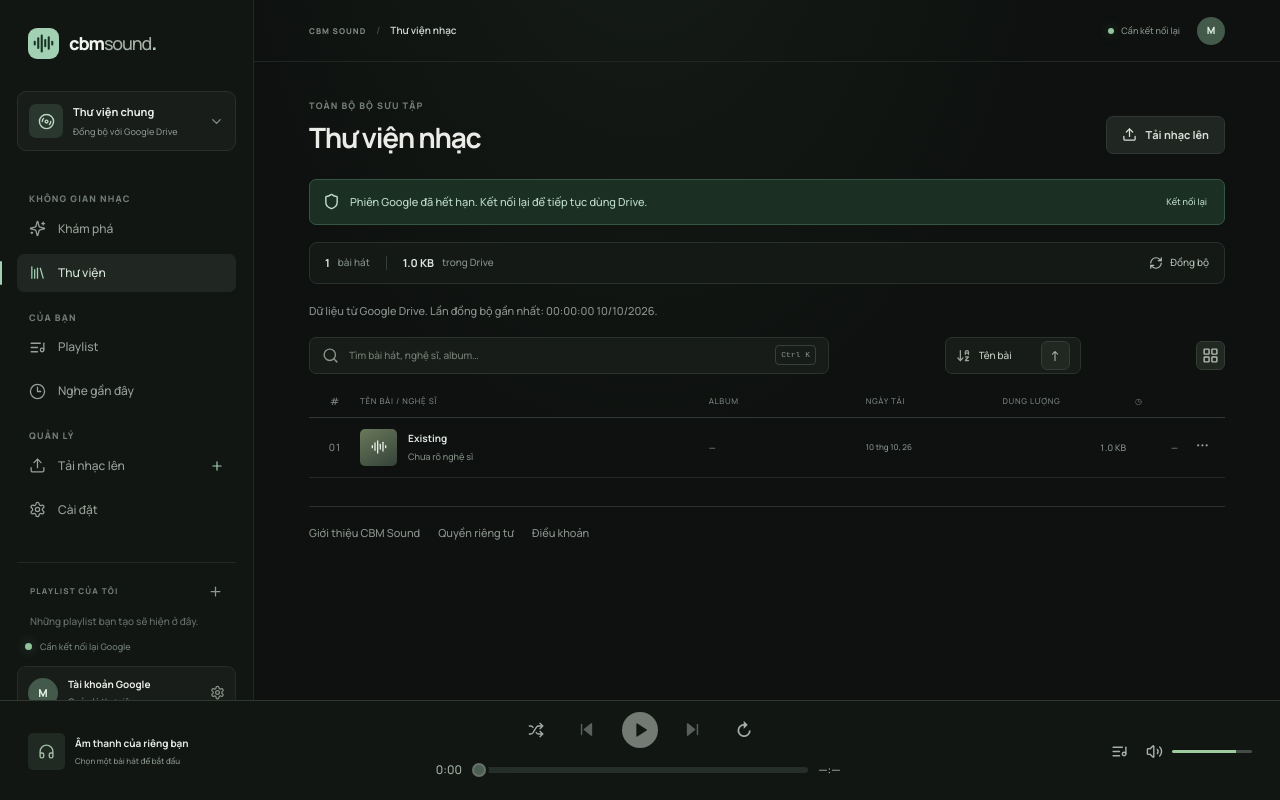
Test: library UI regressions › shows existing music for listening and playlists without offering Drive mutations
This screenshot has width=1280, height=800.
Expected: the text "Existing" is shown, [408,431,447,445]
Click the button named "Tùy chọn Existing.mp3": (1202, 447) [1190,435,1215,460]
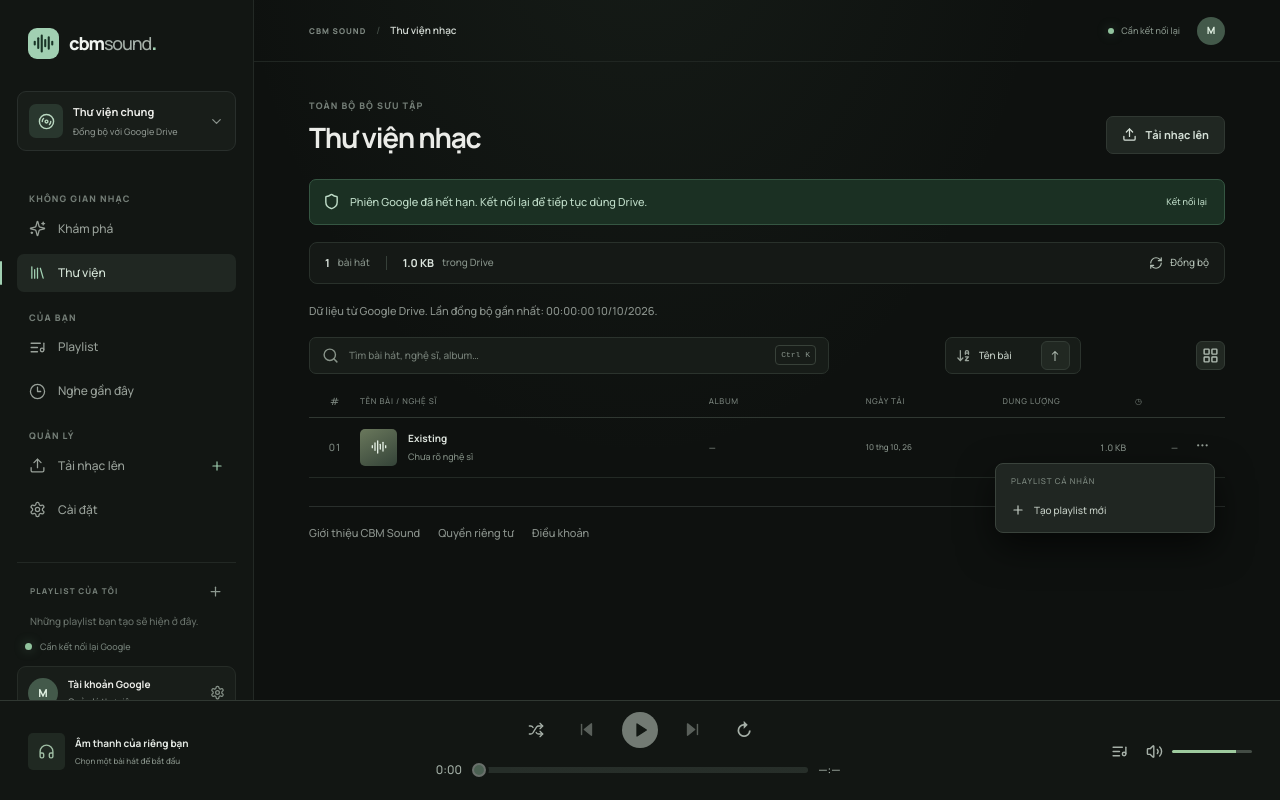
Expected: the menu item "Tạo playlist mới" is shown, [1002,495,1208,526]
